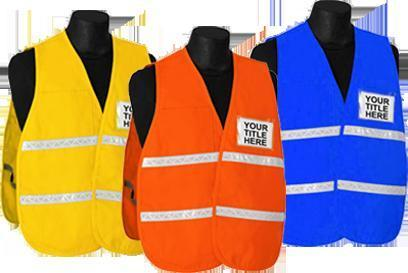vest: (126, 41, 287, 272), (2, 28, 153, 257), (272, 15, 407, 244)
